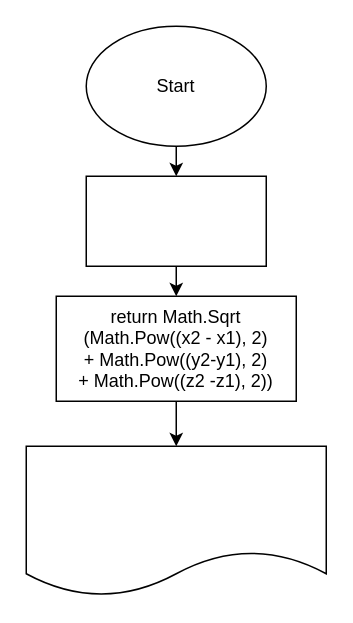
Some shapes in this 353 by 623 pixel diagram are drawn without their labels. Each missing label, with the centre of its shape:
"double distance = Distanc3D (x1, y1, z1, x2, y2, z2) Console.WriteLine(distance)" goes at (x=175, y=520).
"double Distans3D (int x1, int y1, int z1, int x2, int y2, int z2)" goes at (x=175, y=220).
